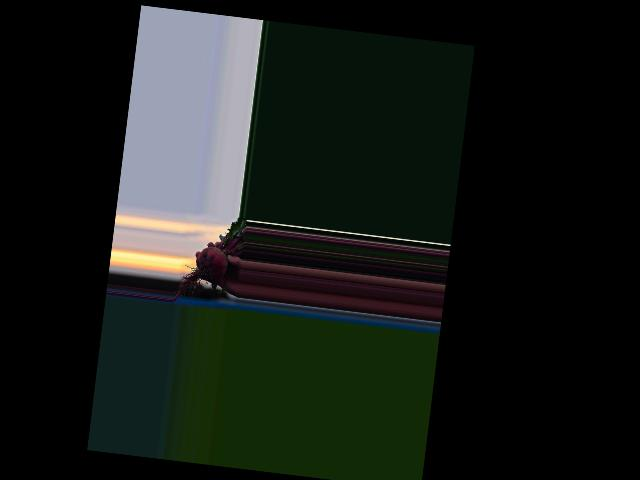beet: (172, 210, 247, 308)
